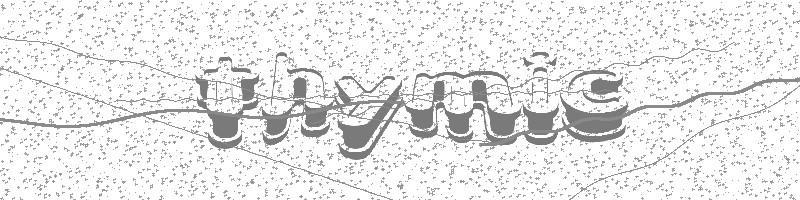c: (561, 71, 628, 142)
h: (263, 52, 332, 145)
i: (523, 53, 557, 144)
m: (406, 72, 521, 143)
t: (196, 57, 257, 148)
y: (334, 75, 403, 159)
